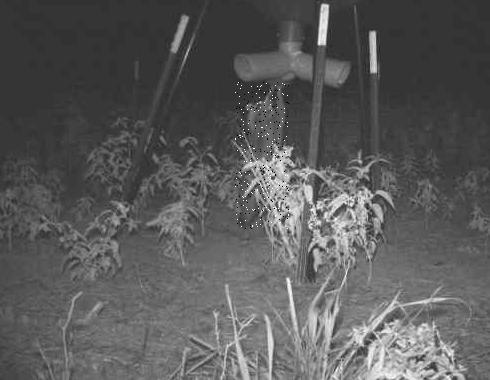Raccoon: (235, 83, 289, 230)
